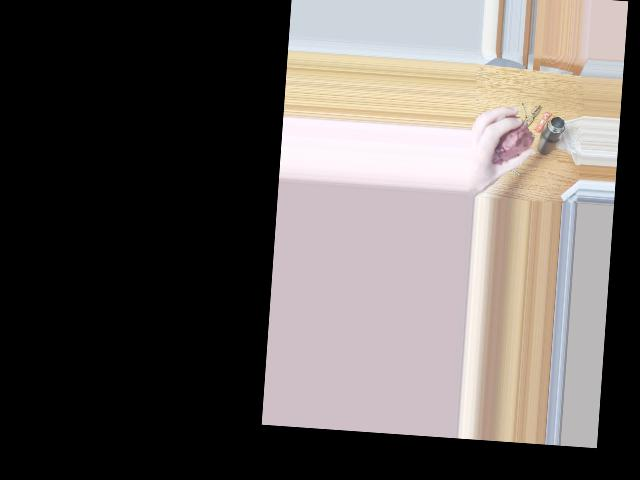onion: (490, 118, 530, 167)
